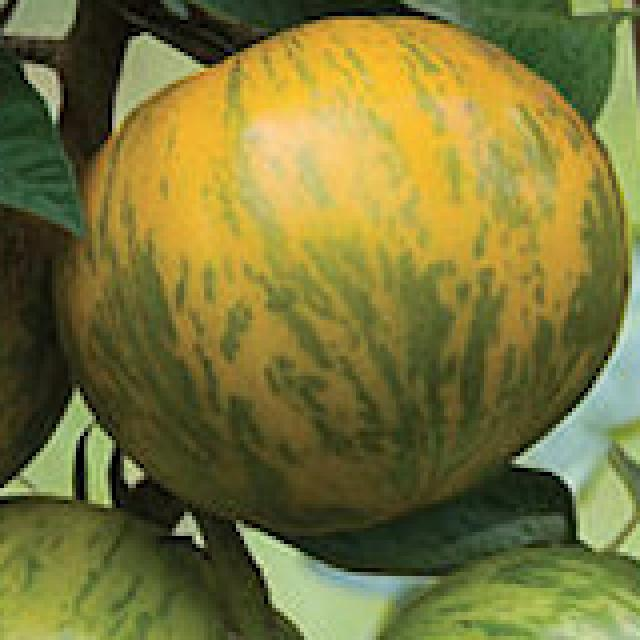sari: (61, 36, 624, 516)
